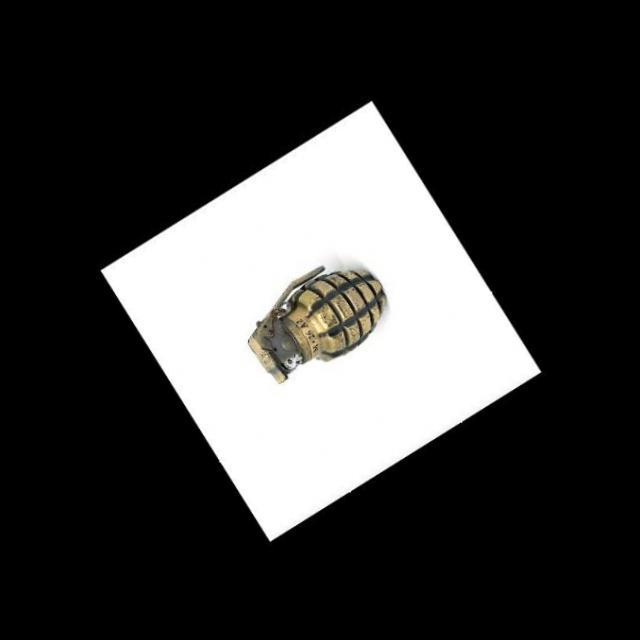grenade: (232, 235, 396, 417)
